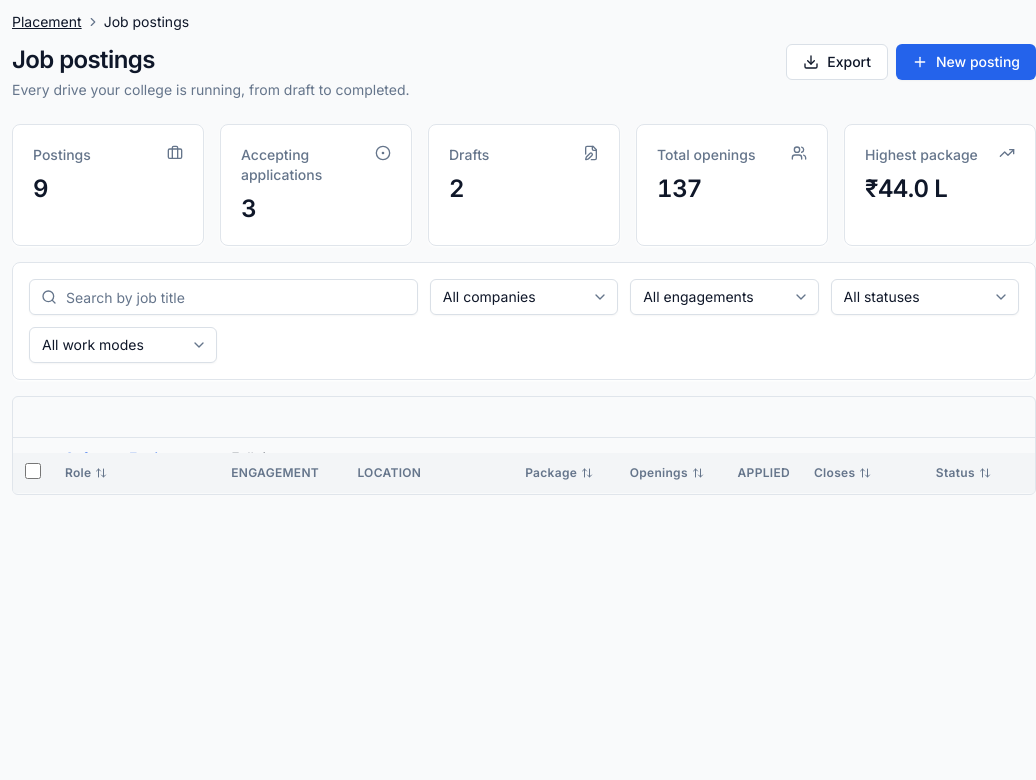
Scenario: Job postings page › refetches with a status filter applied
The image size is (1036, 780).
expect the link "Software Engineer" is shown: met, box [65,448,207,468]
Select "Draft" in the dropdown named "Filter by status" at (925,297), box [831,279,1019,315]
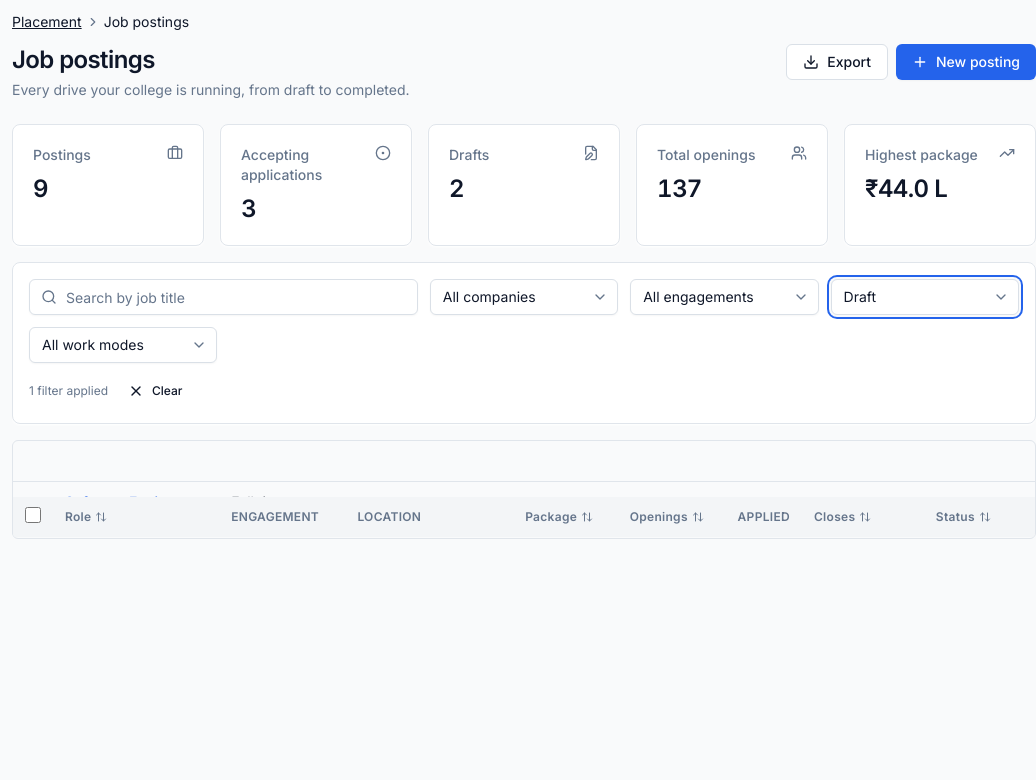
expect the text "1 filter applied" is shown: met, box [29,383,108,399]
